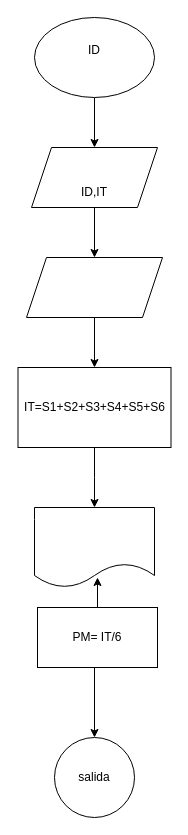
Some shapes in this 188 by 835 pixel diagram are drawn without their labels. Each missing label, with the centre of its shape:
imprimir ID: the point at 94,547
S1,S2,S3,S4,S5,S6: the point at 94,287
